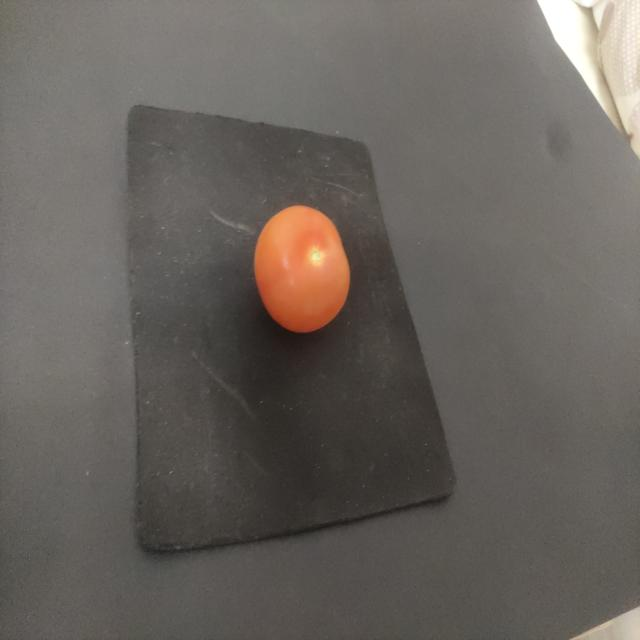sari: (242, 201, 360, 341)
